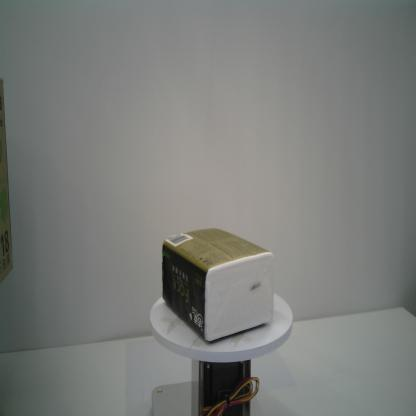Tissue: (160, 226, 276, 344)
